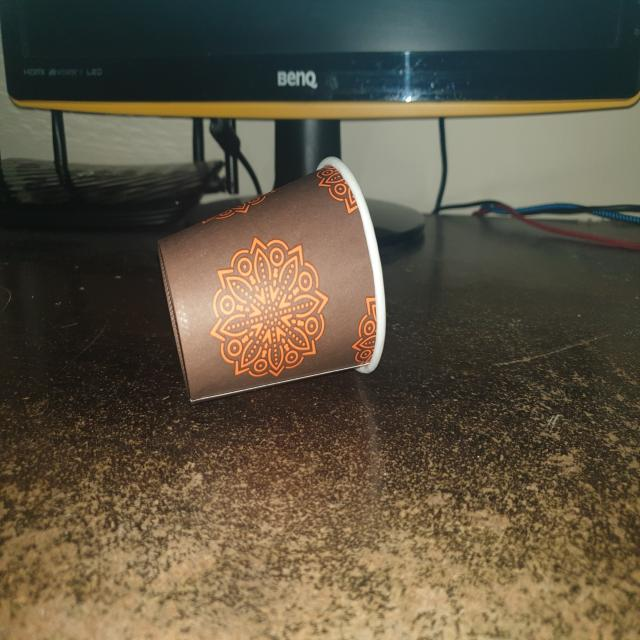cup: (156, 154, 390, 406)
